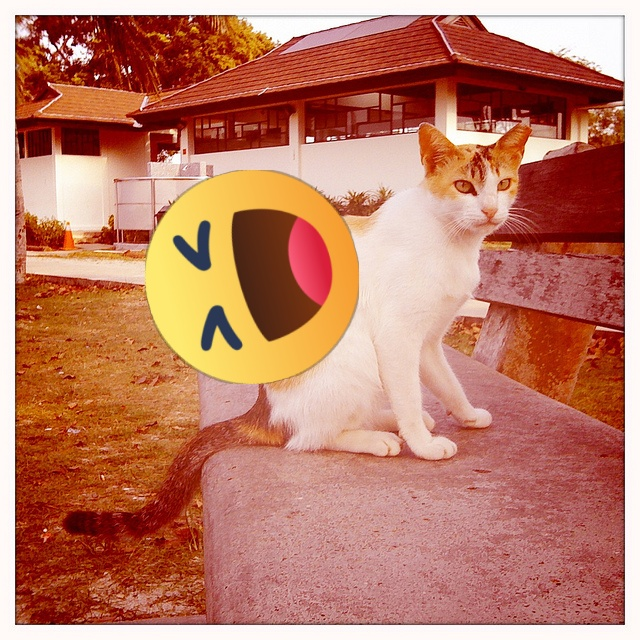haha: (145, 170, 359, 384)
